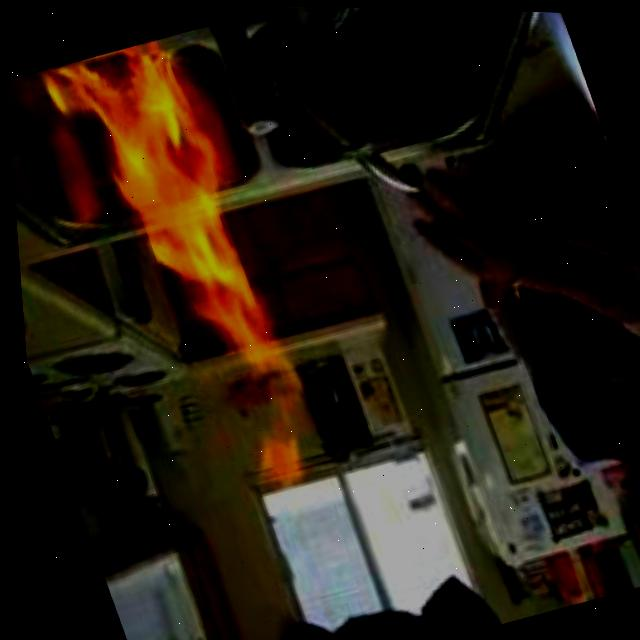Fire: (59, 28, 338, 506)
